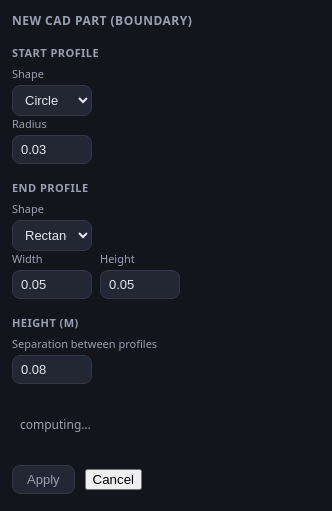
Test: CadBoundaryCreator › switching the Start profile to rectangle swaps its own fields, independently of End
This screenshot has width=332, height=511.
Select "Rectangle" in the dropdown named "cad start shape" at (52, 100), box [12,85,92,116]
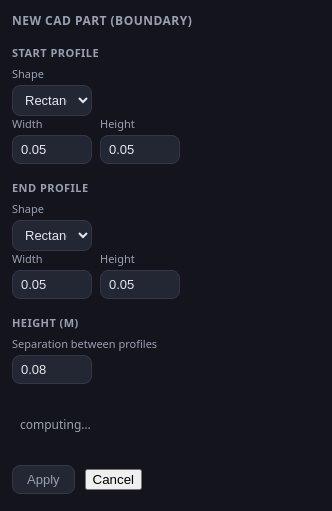
Expected: the dropdown named "cad end shape" shows "Rectangle", [12,220,92,251]
Expected: the number field named "cad start width" is shown, [12,135,92,164]
